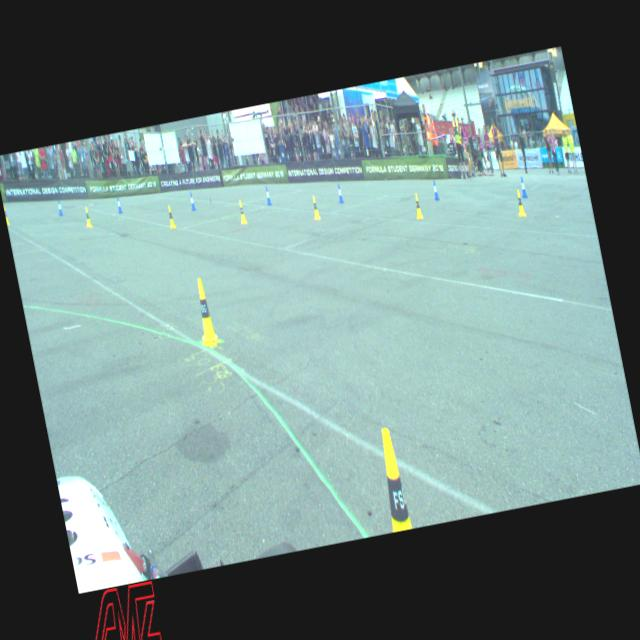blue_cone: (518, 176, 528, 198), (431, 179, 440, 201), (264, 186, 272, 206), (336, 184, 344, 204), (188, 191, 196, 211), (116, 196, 123, 213), (57, 200, 64, 217)
yellow_cone: (373, 427, 412, 532), (188, 276, 222, 349), (514, 188, 526, 216), (412, 192, 423, 218), (166, 205, 177, 229), (311, 194, 321, 220), (238, 200, 248, 224), (84, 206, 92, 228), (4, 205, 10, 225)
